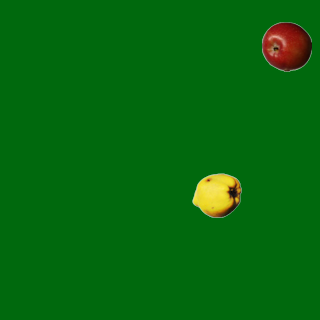Apple Braeburn: (261, 21, 311, 71)
Quince: (191, 170, 241, 220)
